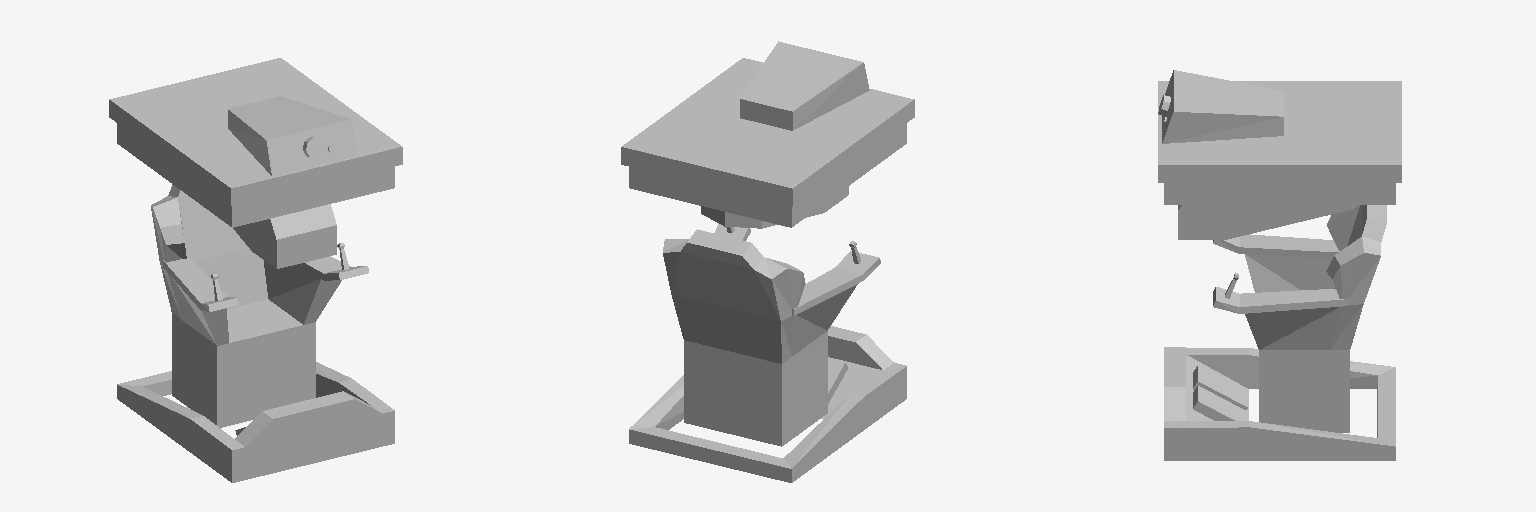
Rendered from cockpit.obj.
The picture shows the model from 3 angles: view 1: azimuth 30°, elevation 25°; view 2: azimuth 150°, elevation 25°; view 3: azimuth 270°, elevation 25°; orthographic projection.
Parts seen in each view (by area): view 1: cockpit_0; view 2: cockpit_0; view 3: cockpit_0.
Boxes of the visible parts, box(x1,y1,x2,y2) form: cockpit_0: box(109, 58, 402, 482); cockpit_0: box(621, 41, 914, 482); cockpit_0: box(1158, 70, 1401, 460).
Bounding box in the file's own units: 0.8707 × 1.6 × 1.07.